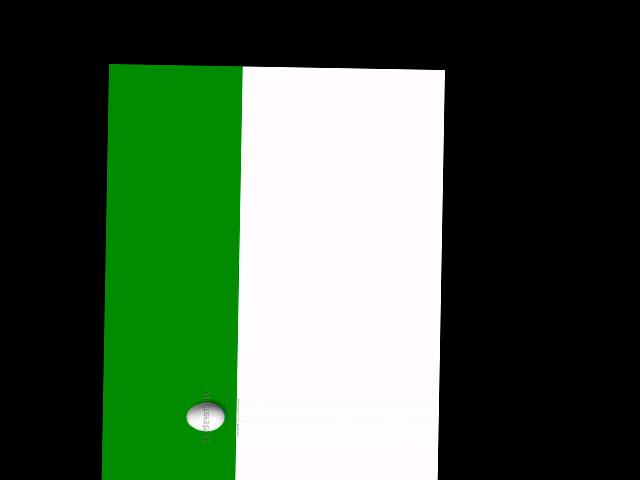egg: (186, 402, 224, 431)
